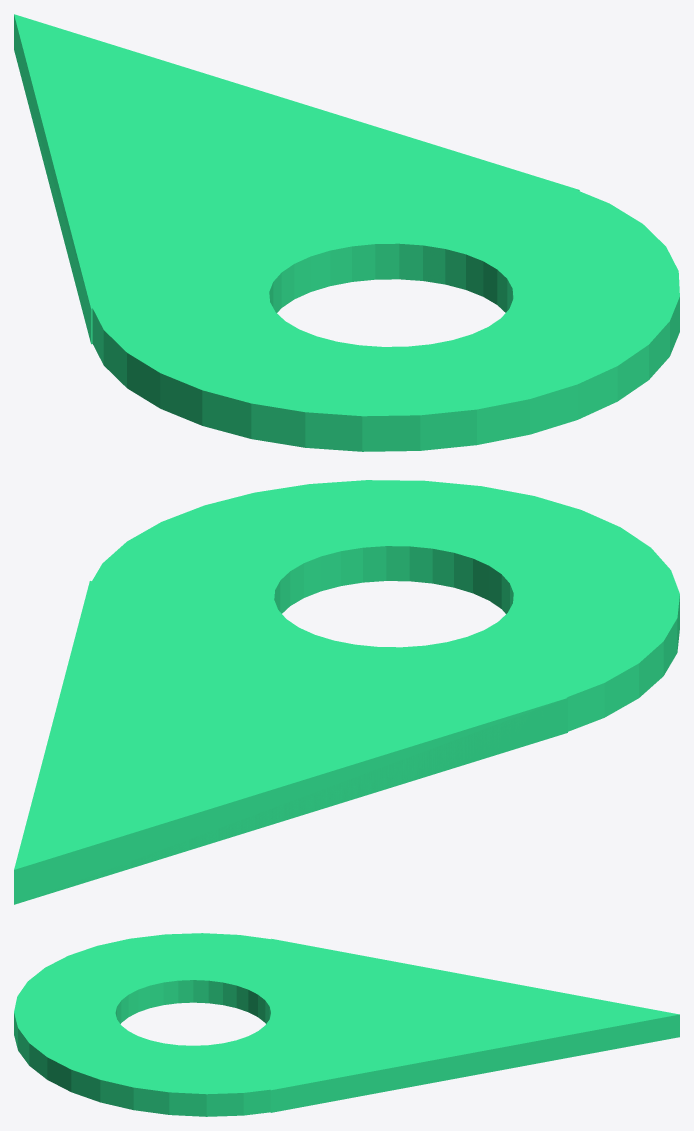
The model's file is spike.fbx.
3 renders of one model, top to bottom at view 1: azimuth 30°, elevation 25°; view 2: azimuth 150°, elevation 25°; view 3: azimuth 270°, elevation 25°, orthographic. The views are drawn at different scales.
Parts seen in each view (by area): view 1: Material.003; view 2: Material.003; view 3: Material.003.
Part boxes in pixels (box(x1,y1,x2,y2)): Material.003: box(14, 14, 679, 451); Material.003: box(14, 480, 679, 904); Material.003: box(14, 933, 679, 1116).
Size of the model in its own units: 160 by 10.5 by 280.
